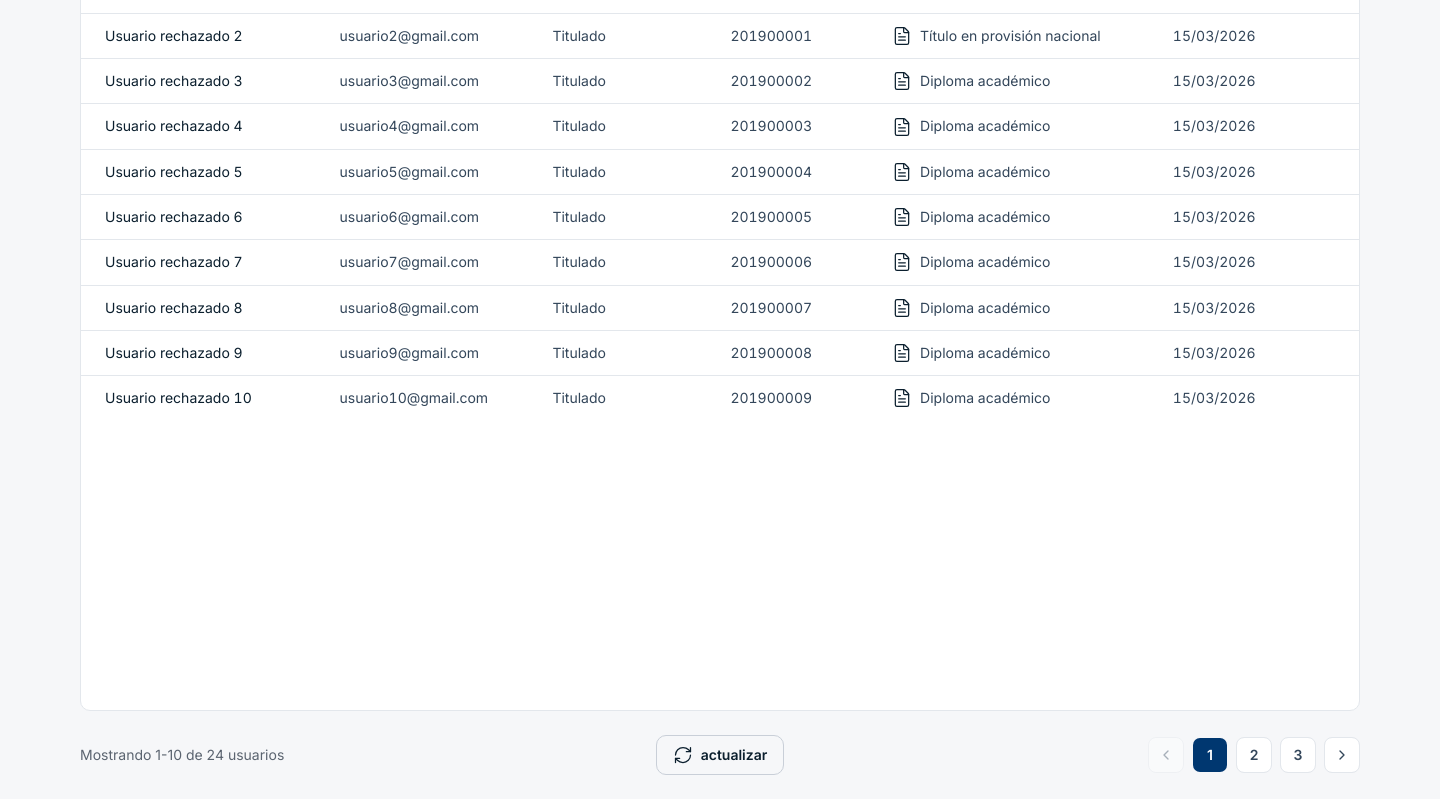
Test case: RejectedUsersReportView › navega a la última página
(page scrolled)
Click the button named "Página 3" at [1298, 755], box x1=1280 y1=737 x2=1316 y2=773
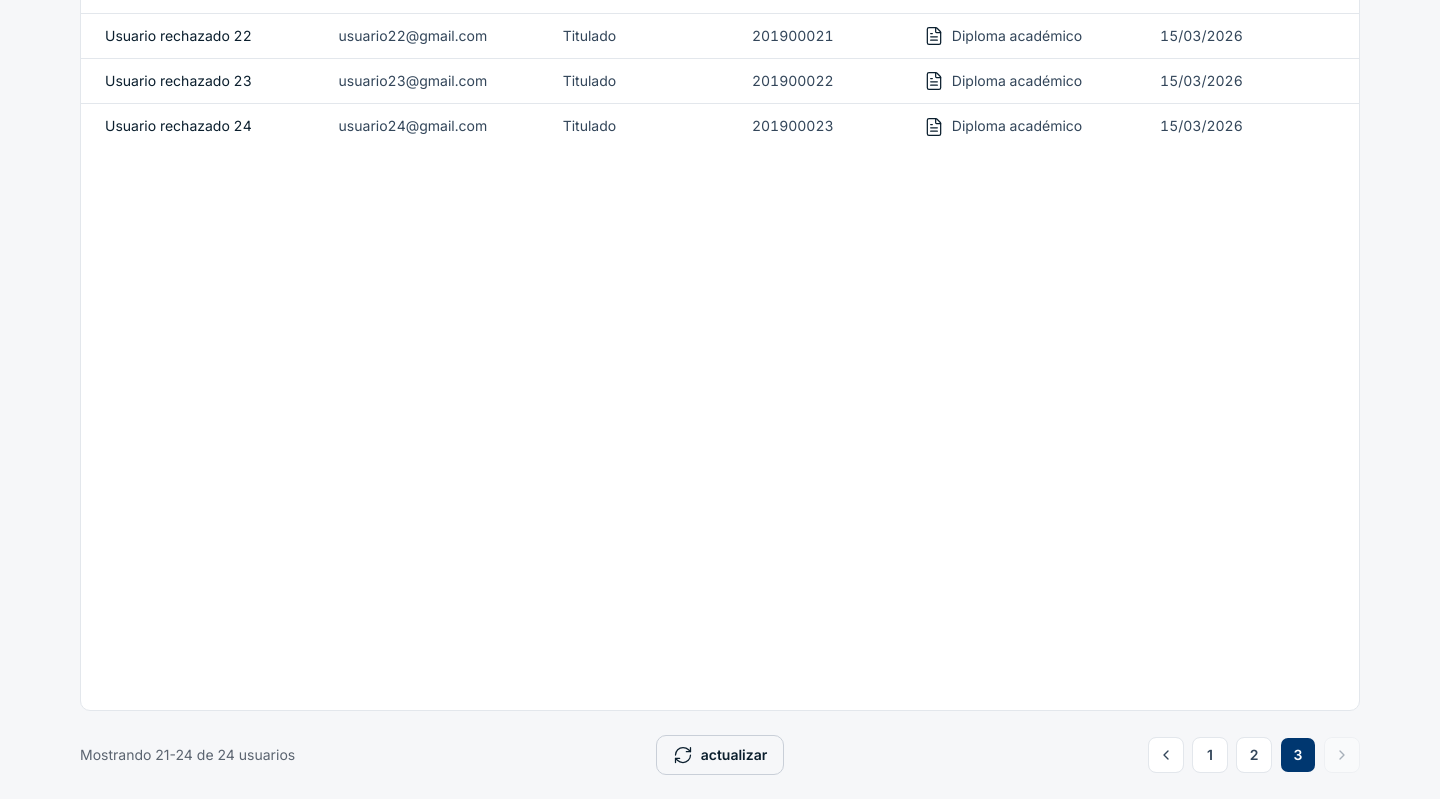
Expected: the text "Usuario rechazado 24" is shown, x1=81 y1=104 x2=323 y2=149
Expected: the text "Mostrando 21-24 de 24 usuarios" is shown, x1=80 y1=746 x2=295 y2=763
